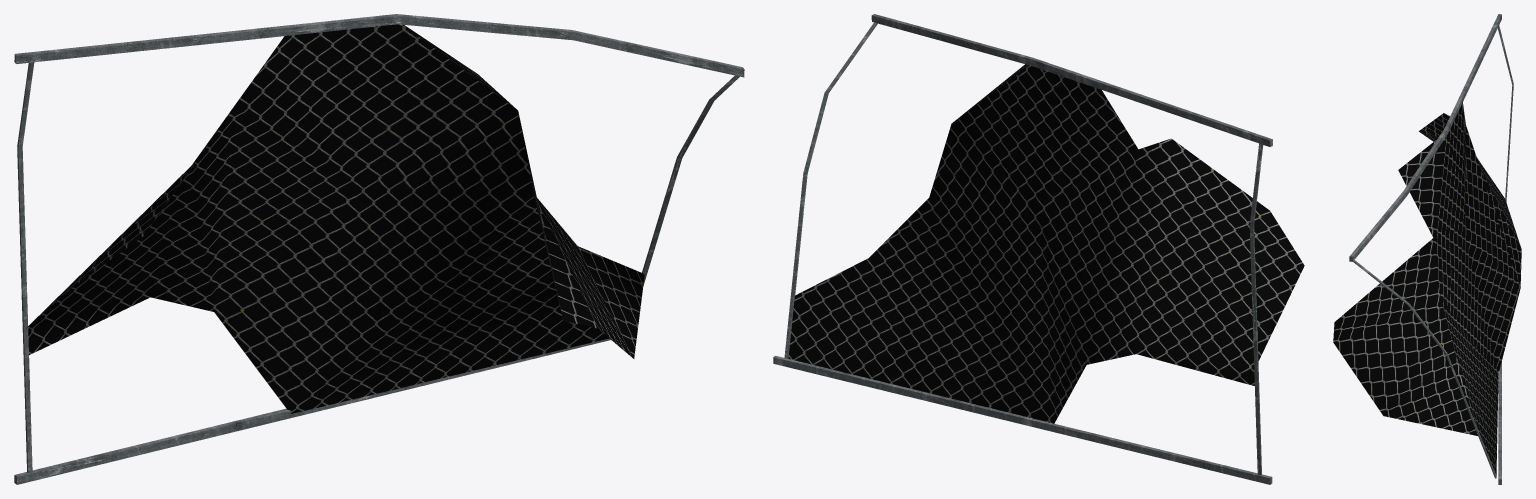
The model's file is Wire3.fbx.
The picture shows the model from 3 angles, left to right: view 1: azimuth 30°, elevation 25°; view 2: azimuth 150°, elevation 25°; view 3: azimuth 270°, elevation 25°; orthographic projection. The views are drawn at different scales.
Visible parts, largest first — view 1: polySurface180; view 2: polySurface180; view 3: polySurface180.
Boxes of the visible parts, x1,y1,x2,y2 form: polySurface180: [14, 14, 744, 484]; polySurface180: [773, 14, 1304, 484]; polySurface180: [1333, 14, 1521, 484].
Size of the model in its own units: 4.06 by 2.65 by 1.64.
Materials: 2 (2 with a texture image).
